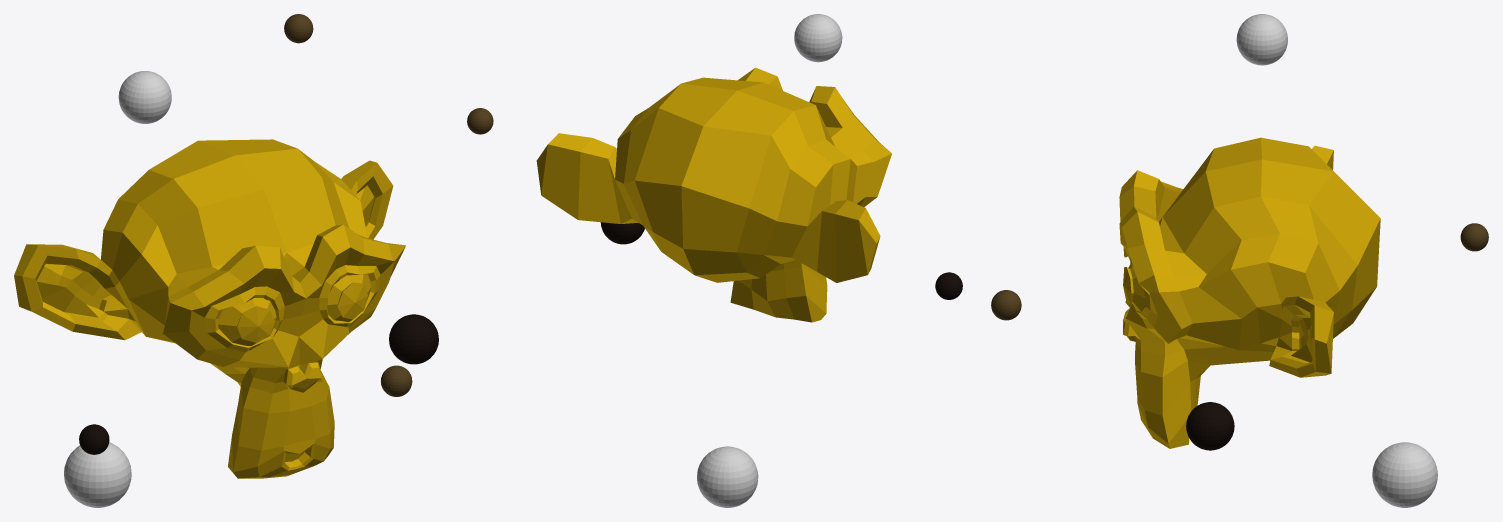
File: singe.obj
3 views of the same model, side by side, from view 1: azimuth 30°, elevation 25°; view 2: azimuth 150°, elevation 25°; view 3: azimuth 270°, elevation 25° (orthographic). The views are drawn at different scales.
Parts seen in each view (by area): view 1: Sphere.005; view 2: Sphere.005; view 3: Sphere.005.
Part boxes in pixels (x1=…): Sphere.005: x1=14, y1=14, x2=438, y2=507; Sphere.005: x1=467, y1=14, x2=962, y2=507; Sphere.005: x1=991, y1=14, x2=1488, y2=507.
Size of the model in its own units: 2.83 by 3.42 by 3.24.
